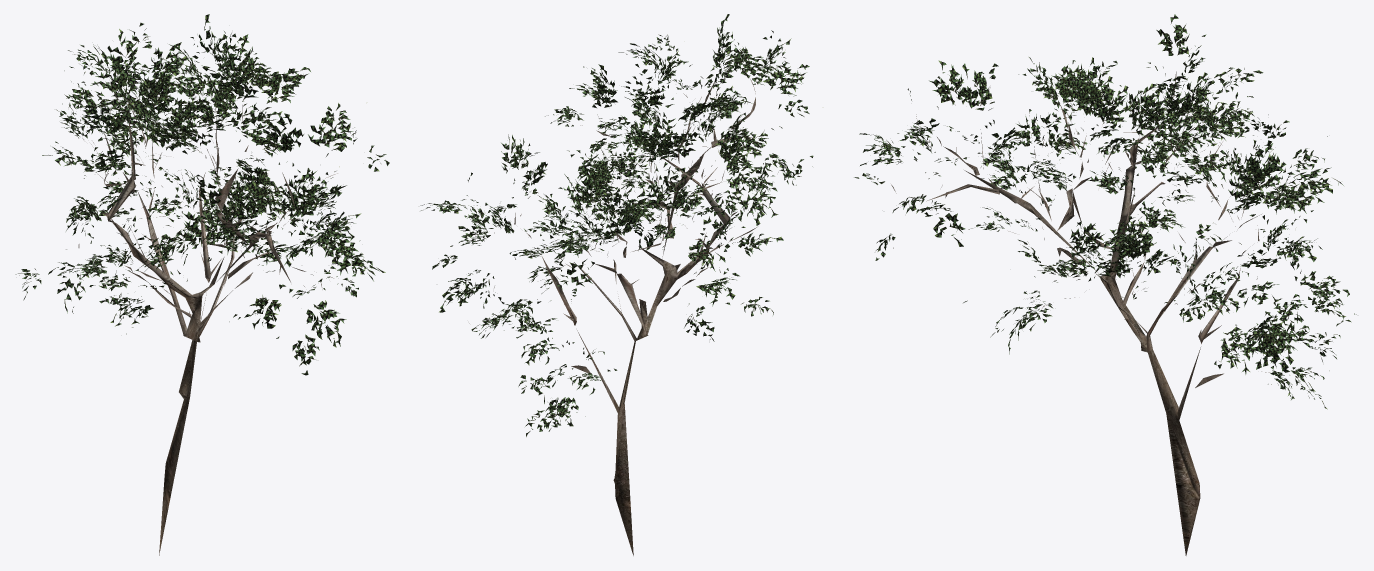
File: broad_lo.glb
The picture shows the model from 3 angles, left to right: view 1: azimuth 30°, elevation 25°; view 2: azimuth 150°, elevation 25°; view 3: azimuth 270°, elevation 25°; orthographic projection. The views are drawn at different scales.
Parts seen in each view (by area): view 1: tree_small_02_LOD0; view 2: tree_small_02_LOD0; view 3: tree_small_02_LOD0.
Part boxes in pixels (bbox=[...]): tree_small_02_LOD0: bbox=[15, 14, 389, 555]; tree_small_02_LOD0: bbox=[420, 14, 813, 555]; tree_small_02_LOD0: bbox=[854, 14, 1356, 555].
Size of the model in its own units: 2.87 by 4.53 by 4.14.
Materials: 3 (3 with a texture image).
